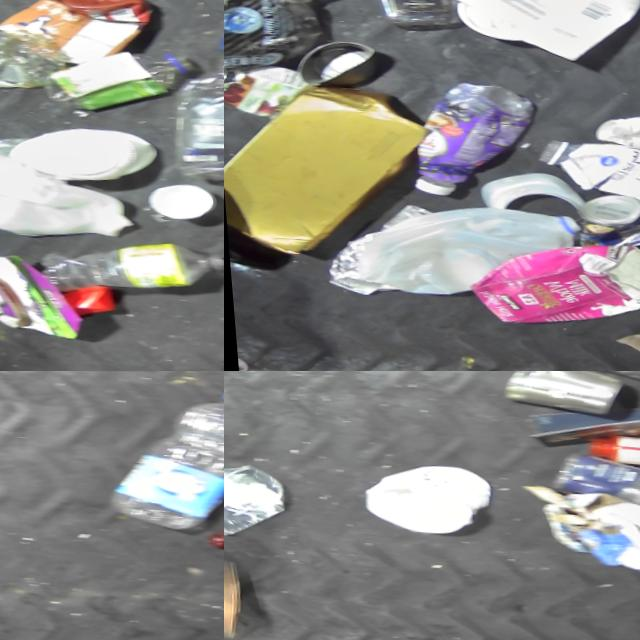can: (488, 371, 630, 420), (224, 59, 305, 119), (290, 37, 377, 89), (571, 192, 639, 247)
milk_jug: (344, 199, 579, 306), (0, 133, 136, 243), (429, 0, 640, 66)
non_white_jug: (456, 232, 640, 335), (0, 0, 160, 70)
plastic_bottle: (90, 382, 224, 538), (27, 231, 224, 307), (32, 43, 197, 120), (158, 28, 224, 190), (357, 0, 459, 31)
